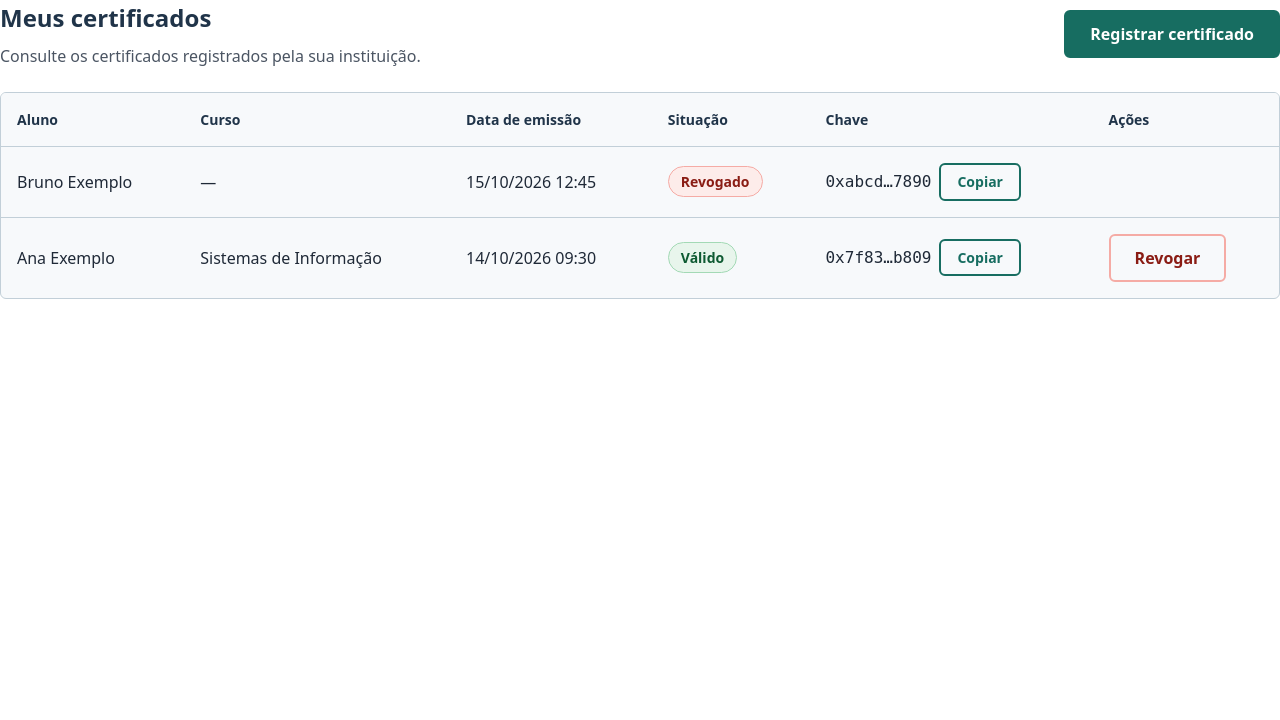
Test case: PainelPage › não chama a API ao cancelar ou fechar a confirmação com Escape
Click the button "Revogar" at (1168, 258), box [1109,234,1226,282]
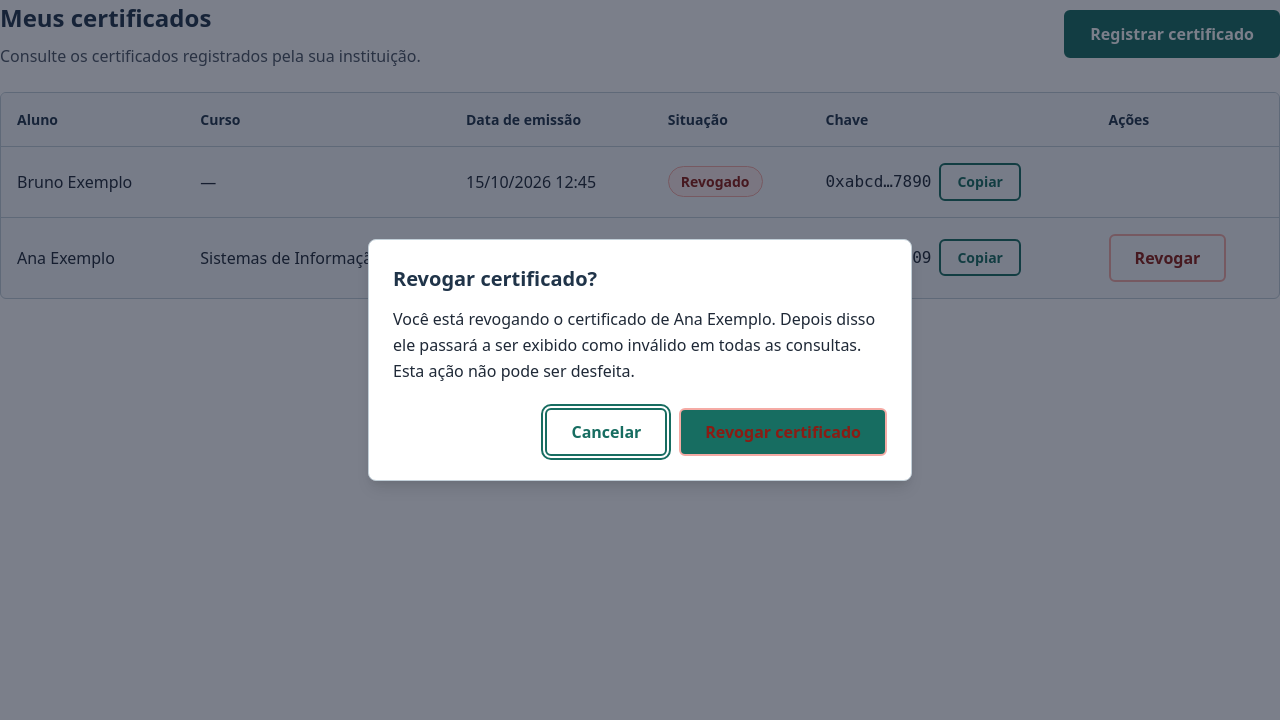
Check: the dialog "Revogar certificado?" shows "Você está revogando o certificado de Ana Exemplo. Depois disso ele passará a ser exibido como inválido em todas as consultas. Esta ação não pode ser desfeita.", box [393,308,875,382]
Click the button "Cancelar" at (606, 432), box [546,408,667,456]
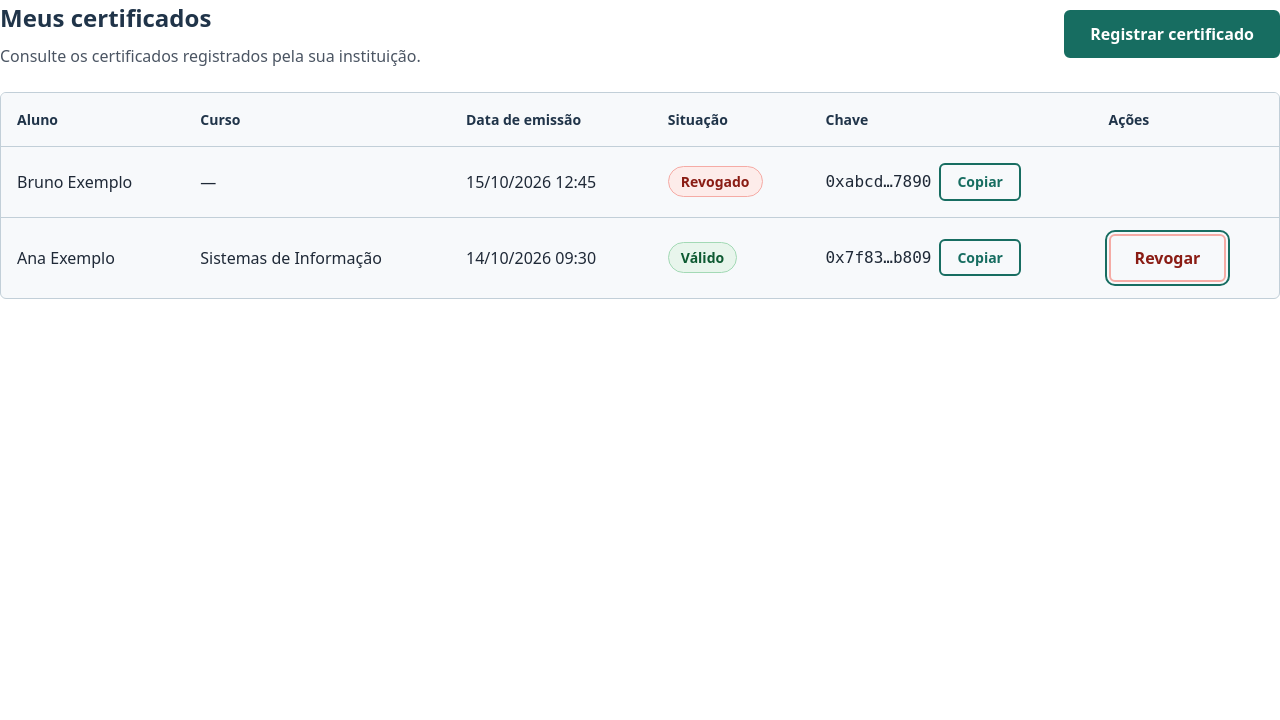
Click the button "Revogar" at (1168, 258), box [1109,234,1226,282]
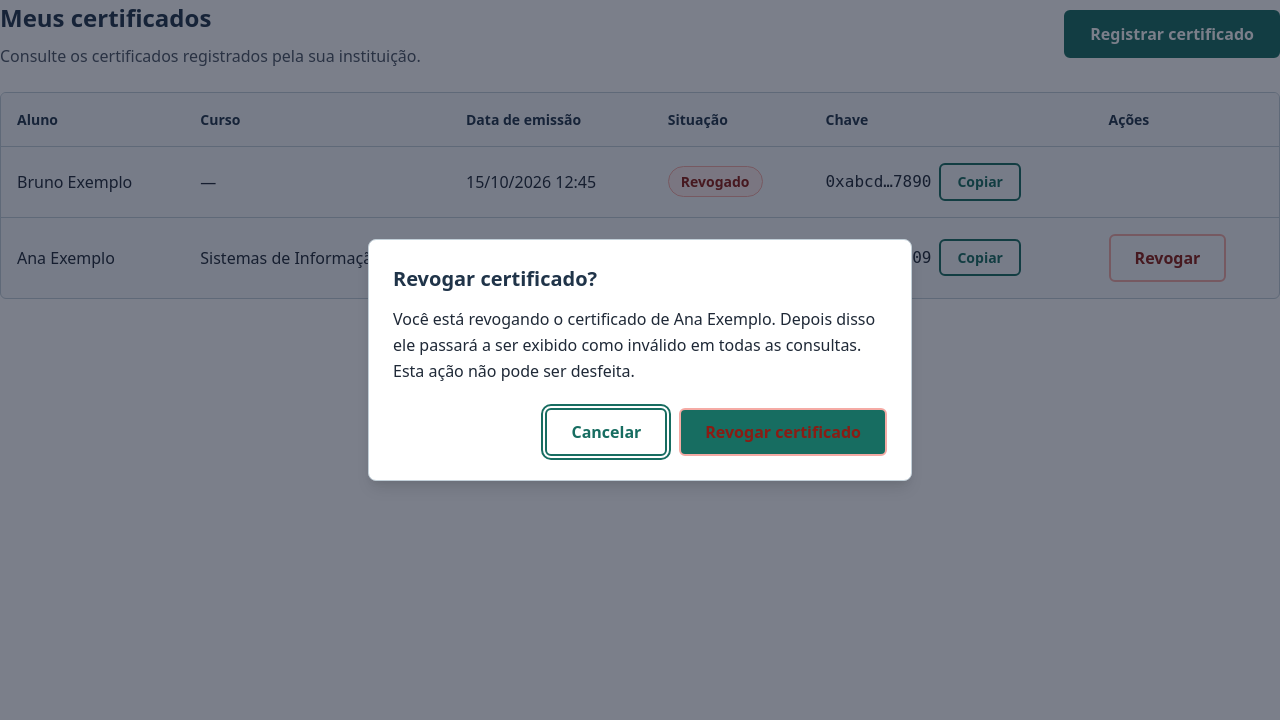
Press Escape
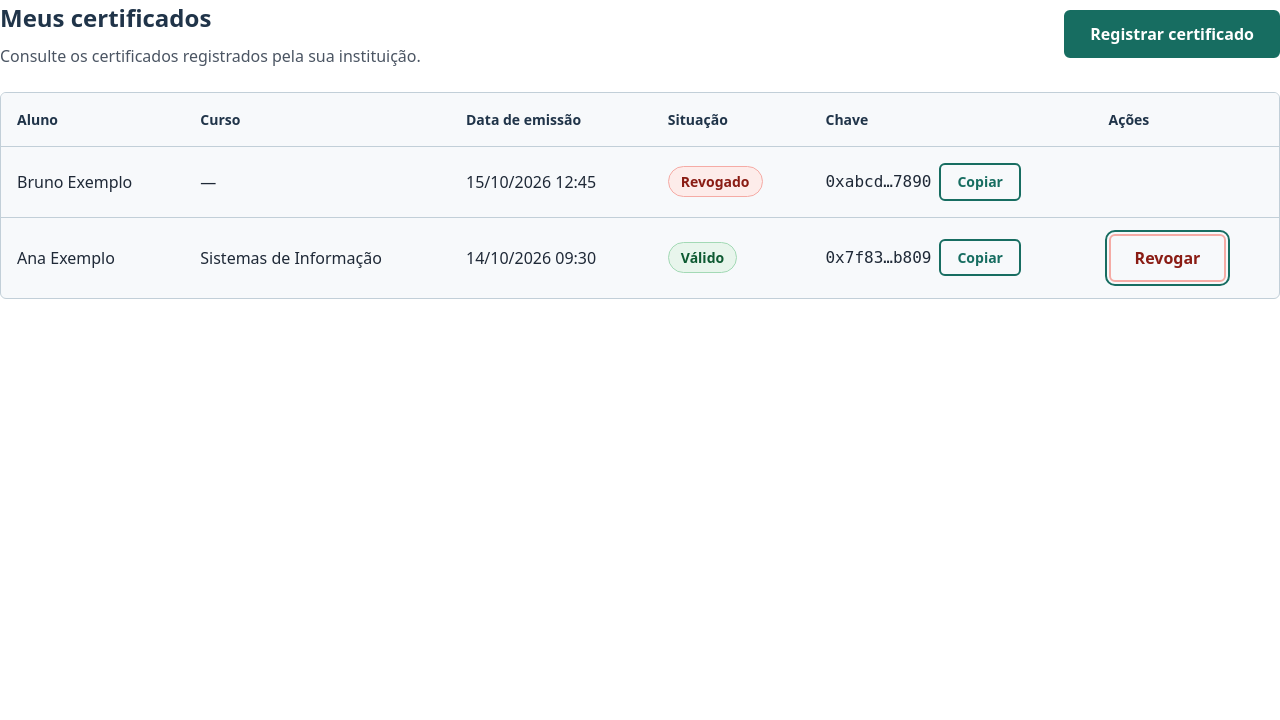
Check: the dialog is gone
